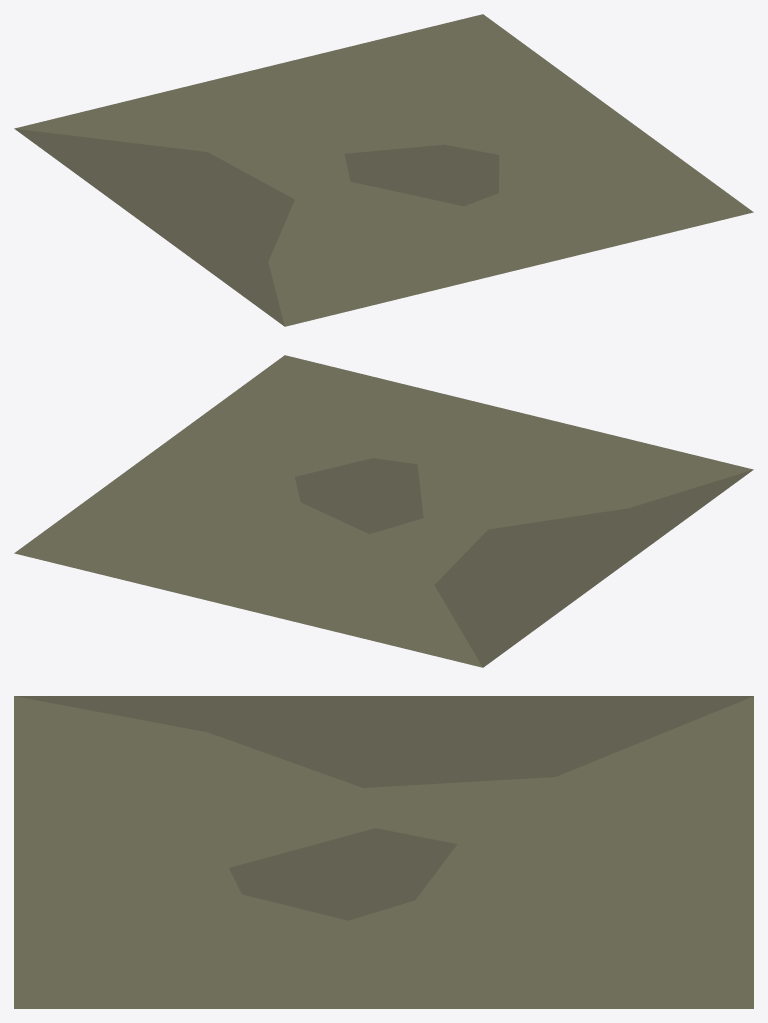
The model's file is AI_Env_Floor_06_Stained_01.fbx.
3 renders of one model, top to bottom at view 1: azimuth 30°, elevation 25°; view 2: azimuth 150°, elevation 25°; view 3: azimuth 270°, elevation 25°, orthographic. The views are drawn at different scales.
Visible parts, largest first — view 1: AI_Env_Floor_06_Stained_01; view 2: AI_Env_Floor_06_Stained_01; view 3: AI_Env_Floor_06_Stained_01.
Part boxes in pixels (bbox=[...]): AI_Env_Floor_06_Stained_01: bbox=[14, 14, 753, 326]; AI_Env_Floor_06_Stained_01: bbox=[14, 355, 753, 667]; AI_Env_Floor_06_Stained_01: bbox=[14, 696, 753, 1008].
Bounding box in the file's own units: 5 × 0 × 5.
